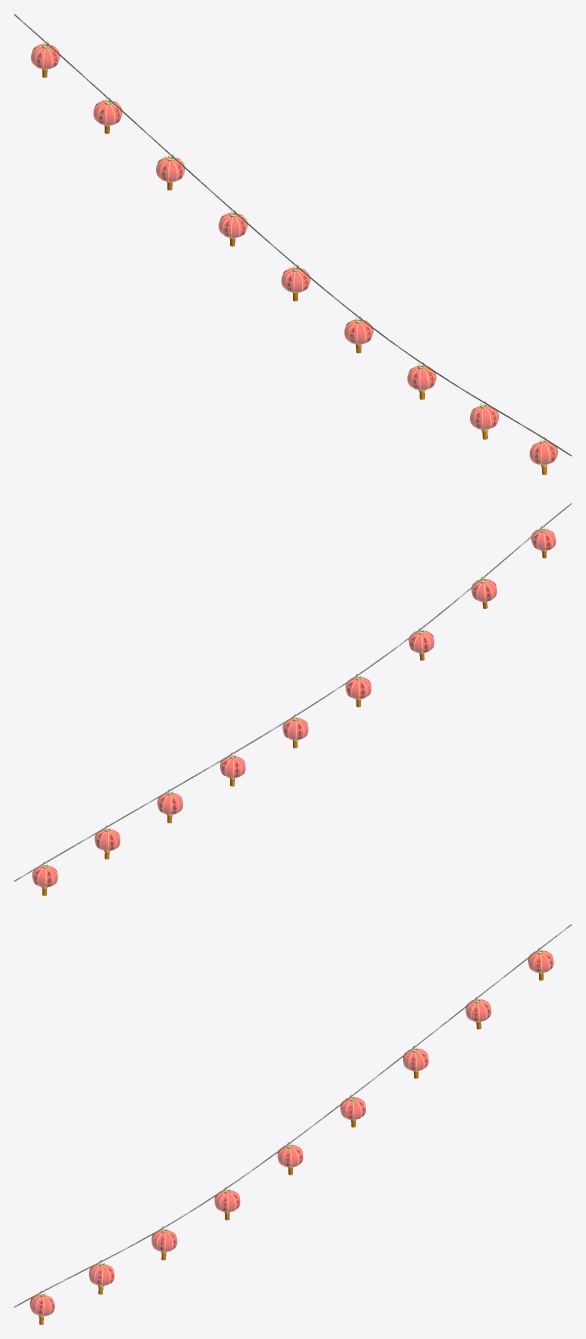
Rendered from SM_lamp_spline_Splines_17.fbx.
The picture shows the model from 3 angles, top to bottom: view 1: azimuth 30°, elevation 25°; view 2: azimuth 150°, elevation 25°; view 3: azimuth 330°, elevation 25°; orthographic projection. The views are drawn at different scales.
Visible parts, largest first — view 1: SM_lamp_spline_Splines_17; view 2: SM_lamp_spline_Splines_17; view 3: SM_lamp_spline_Splines_17.
Part boxes in pixels (<box>): SM_lamp_spline_Splines_17: <box>14,14,571,474</box>; SM_lamp_spline_Splines_17: <box>14,503,571,895</box>; SM_lamp_spline_Splines_17: <box>14,924,571,1324</box>.
Bounding box in the file's own units: 115 × 2222 × 140.
